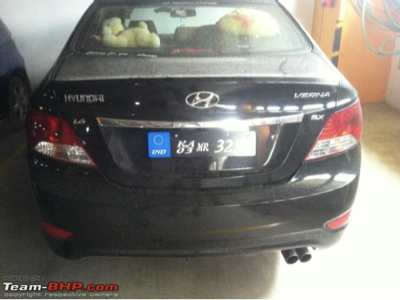licence: (149, 130, 255, 158)
